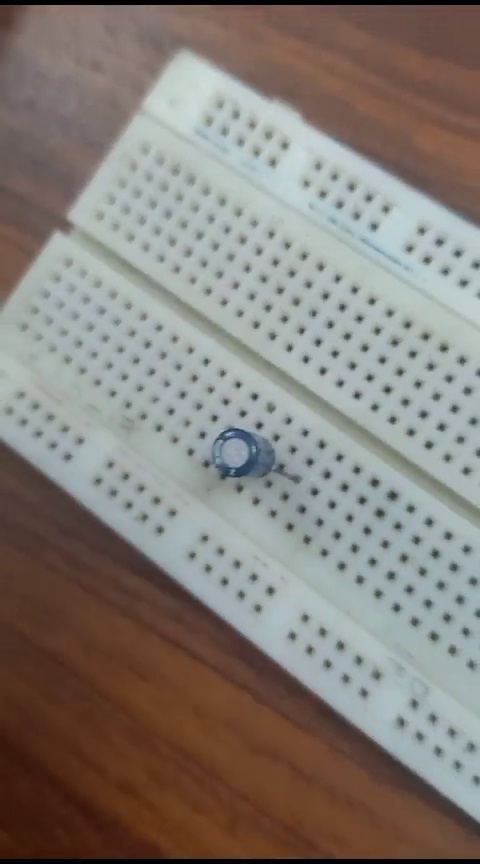capacitor: (205, 419, 292, 488)
